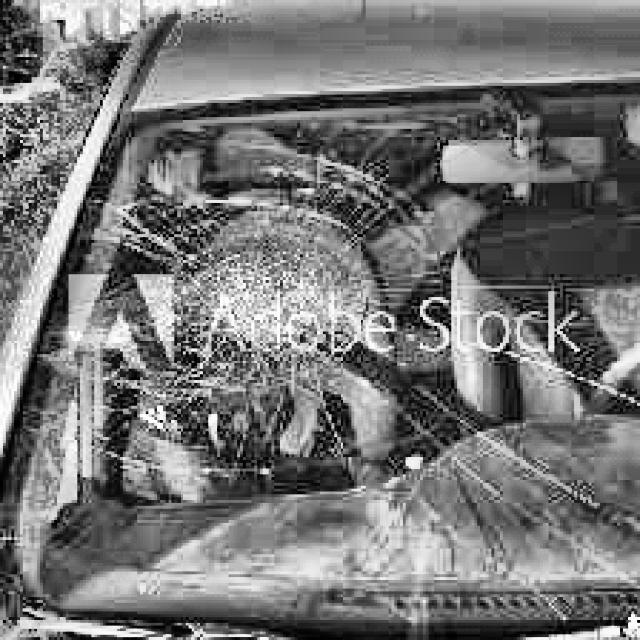glass_shatter: (180, 228, 357, 392)
